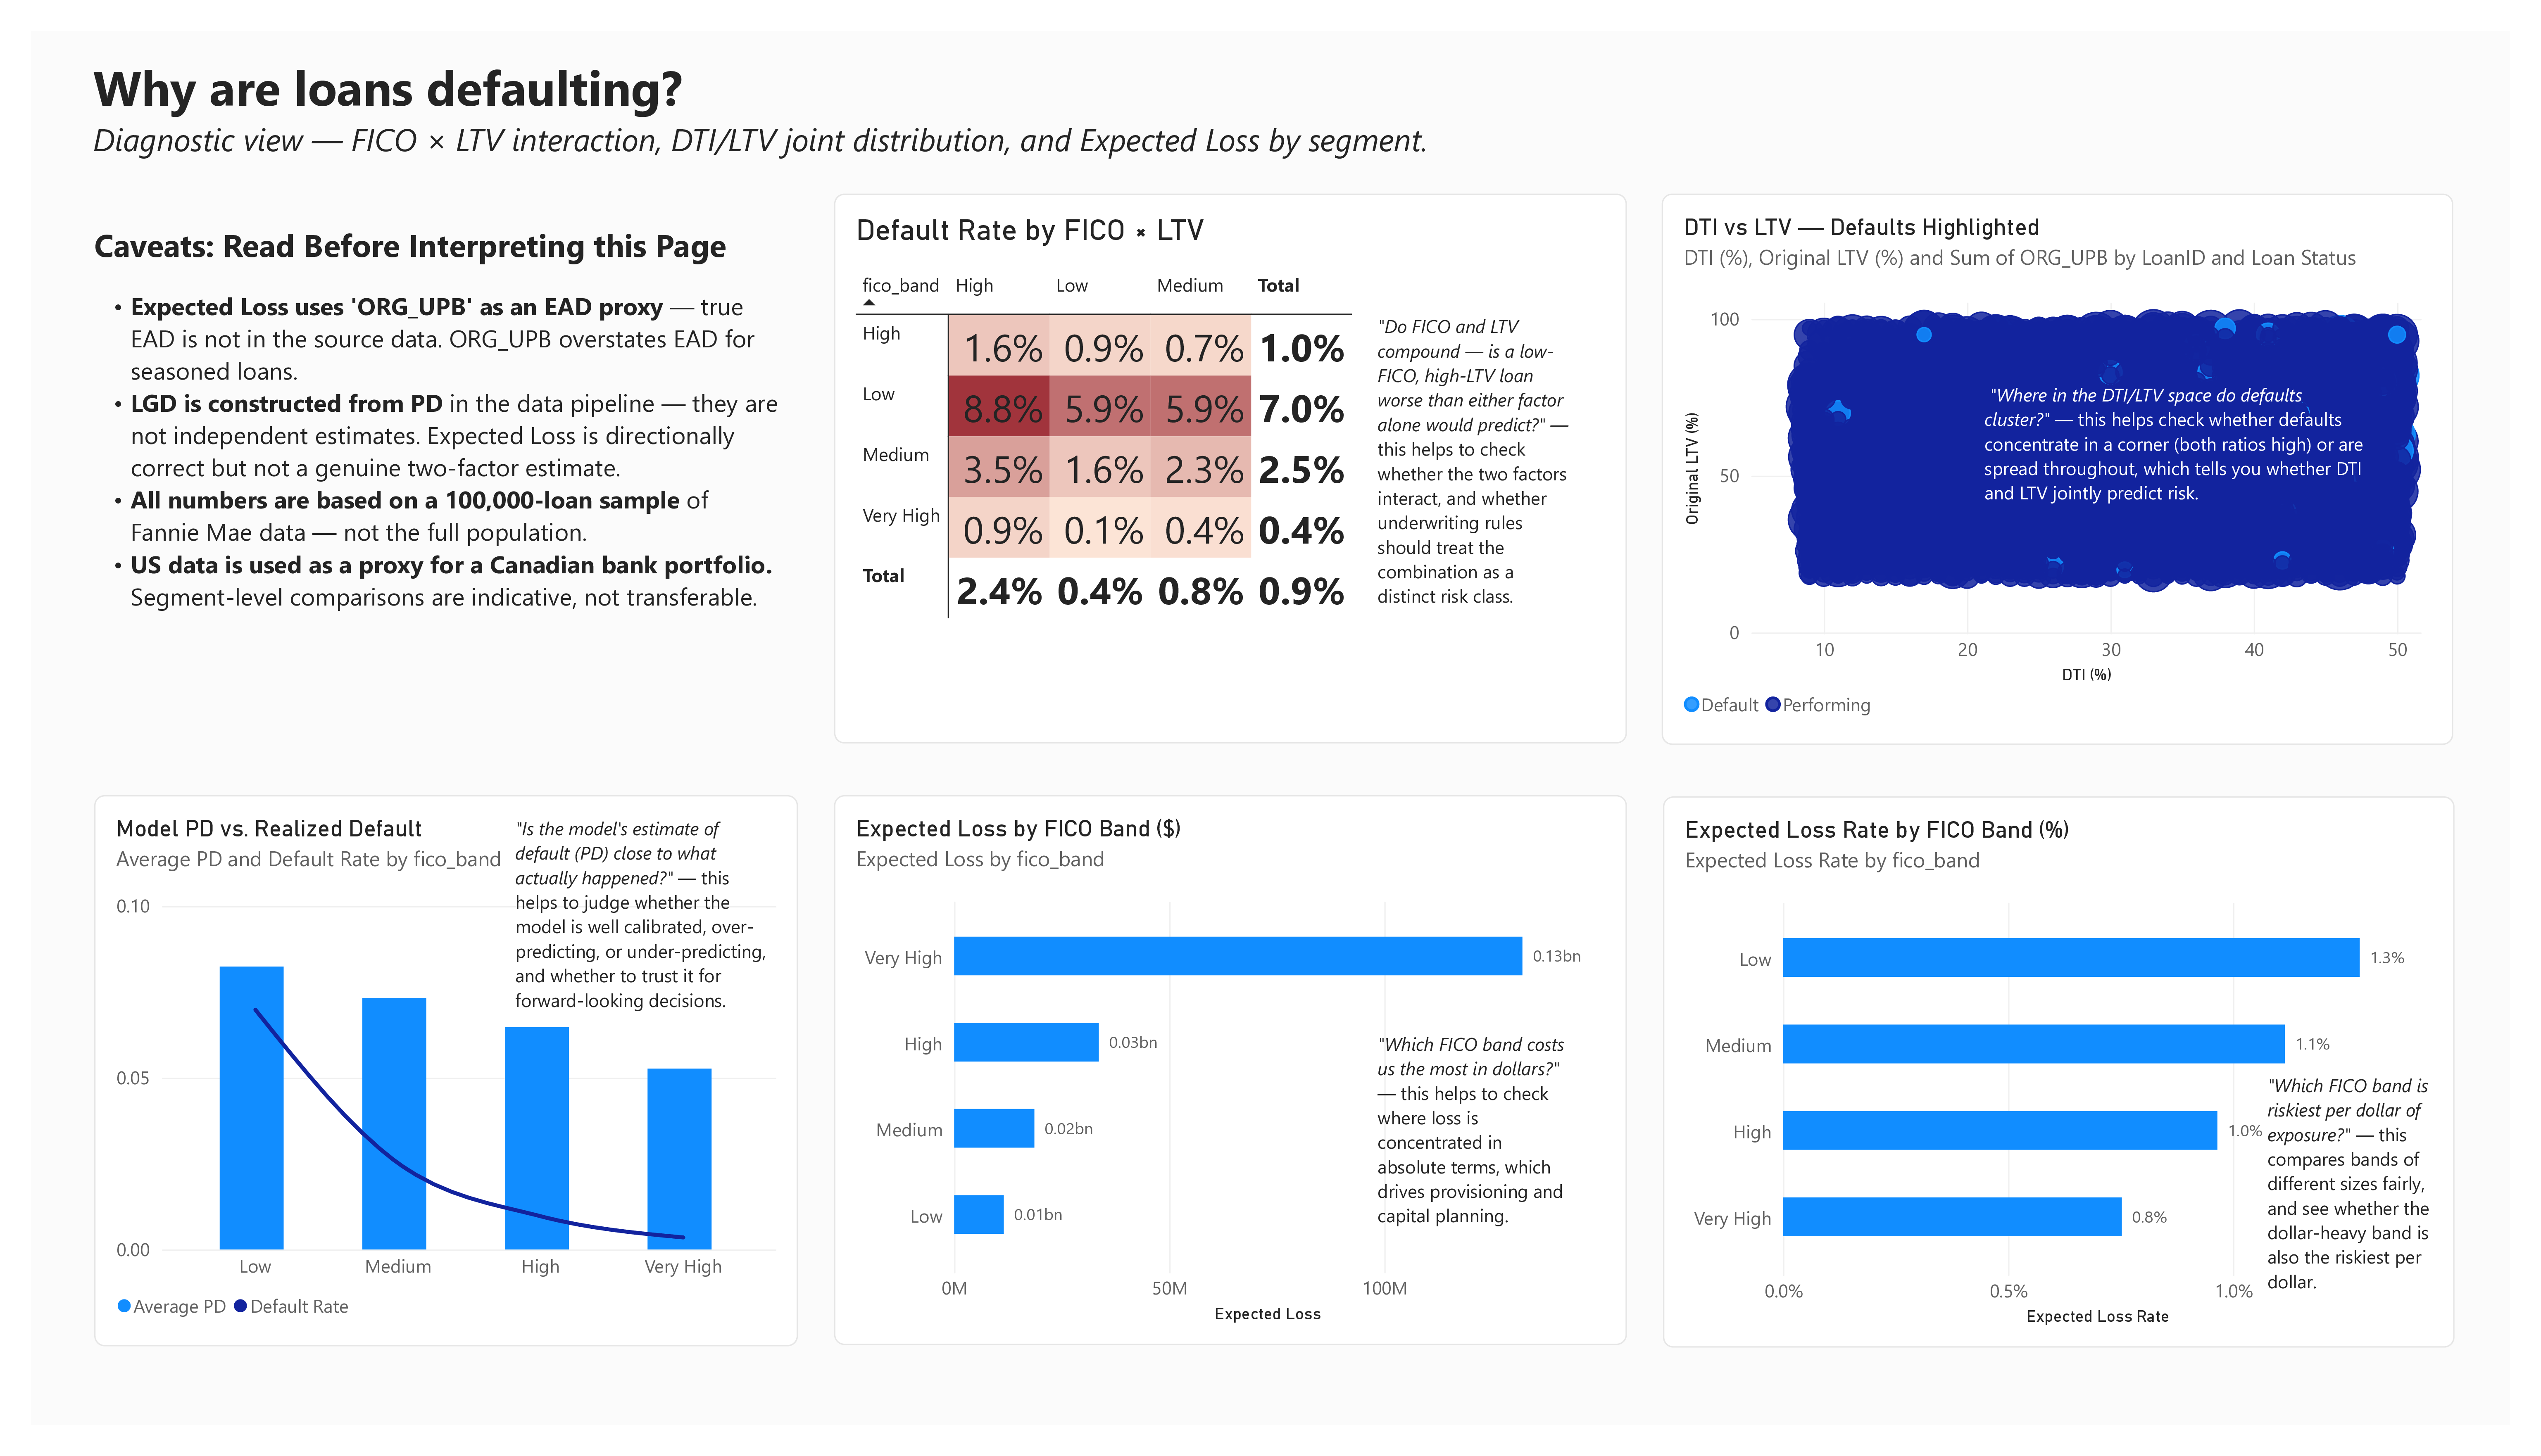

What the dashboard file says about the page in this screenshot:
{"tool":"powerbi","page":{"name":"Default Drivers","canvas":[1920,1080],"ordinal":1},"visuals":[{"type":"scatterChart","title":"DTI vs LTV — Defaults Highlighted","fields":{"Category":["fact_loan_portfolio.LoanID"],"Series":["fact_loan_portfolio.default_flag"],"Size":["Sum(fact_loan_portfolio.ORG_UPB)"],"X":["Sum(fact_loan_portfolio.DTI)"],"Y":["Sum(fact_loan_portfolio.ORG_LTV)"]},"box":[1262.5,126.4,613.3,426.7],"z":0},{"type":"clusteredBarChart","title":"Expected Loss by FICO Band ($)","fields":{"Category":["fact_loan_portfolio.fico_band"],"Y":["fact_loan_portfolio.Expected Loss"]},"box":[622.2,591.7,613.3,426.7],"z":1000},{"type":"clusteredBarChart","title":"Expected Loss Rate by FICO Band (%)","fields":{"Category":["fact_loan_portfolio.fico_band"],"Y":["fact_loan_portfolio.Expected Loss Rate"]},"box":[1263.9,593.1,613.3,426.7],"z":2000},{"type":"textbox","box":[48.3,18.3,1810,96.7],"z":3000},{"type":"textbox","box":[49.3,149.3,531.3,431.3],"z":4000},{"type":"lineClusteredColumnComboChart","title":"Model PD vs. Realized Default ","fields":{"Category":["fact_loan_portfolio.fico_band"],"Y":["fact_loan_portfolio.Average PD"],"Y2":["fact_loan_portfolio.Default Rate"]},"box":[48.6,591.7,545.8,427.8],"z":5000},{"type":"pivotTable","title":"Default Rate by FICO × LTV","fields":{"Columns":["fact_loan_portfolio.ltv_band"],"Rows":["fact_loan_portfolio.fico_band"],"Values":["fact_loan_portfolio.Default Rate"]},"box":[622.2,126.4,614,425.6],"z":6000},{"type":"textbox","box":[1731.9,806.9,126.4,195.8],"z":7000},{"type":"textbox","box":[1512.5,272.2,300,109.7],"z":8000},{"type":"textbox","box":[1043.1,775,148.6,156.9],"z":9000},{"type":"textbox","box":[1043.1,219.4,148.6,240.3],"z":10000},{"type":"textbox","box":[375,608.3,195.8,156.9],"z":10001}]}

Visuals, with their boxes on the page's 1920x1080 design canvas (x1, y1, x2, y2). These are canvas units, not pixel positions in the 2541x1456 screenshot, which may show the page scaled, cropped or inside an application window:
"DTI vs LTV — Defaults Highlighted" scatterChart: 1262, 126, 1876, 553
"Expected Loss by FICO Band ($)" clusteredBarChart: 622, 592, 1236, 1018
"Expected Loss Rate by FICO Band (%)" clusteredBarChart: 1264, 593, 1877, 1020
textbox: 48, 18, 1858, 115
textbox: 49, 149, 581, 581
"Model PD vs. Realized Default " lineClusteredColumnComboChart: 49, 592, 594, 1020
"Default Rate by FICO × LTV" pivotTable: 622, 126, 1236, 552
textbox: 1732, 807, 1858, 1003
textbox: 1512, 272, 1812, 382
textbox: 1043, 775, 1192, 932
textbox: 1043, 219, 1192, 460
textbox: 375, 608, 571, 765
